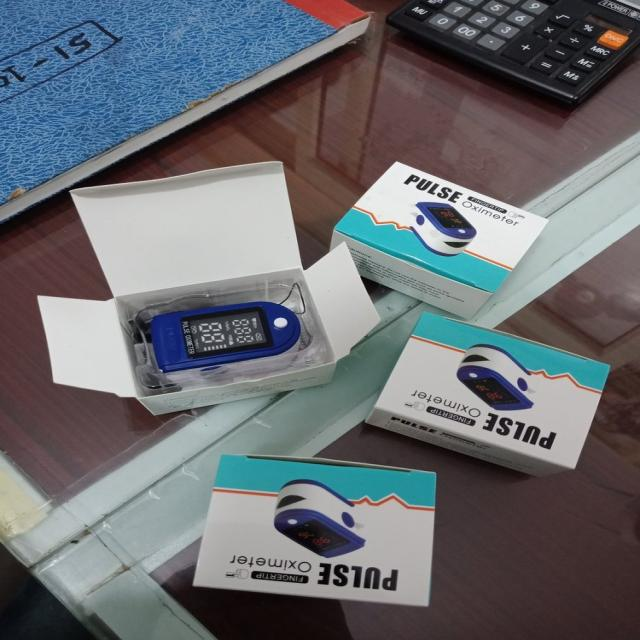oximeter: (121, 291, 313, 391)
